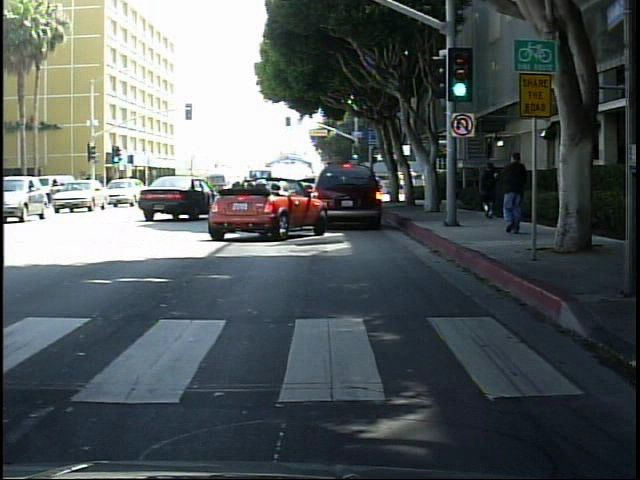person: (500, 146, 532, 237), (478, 157, 503, 222), (405, 164, 421, 201)
